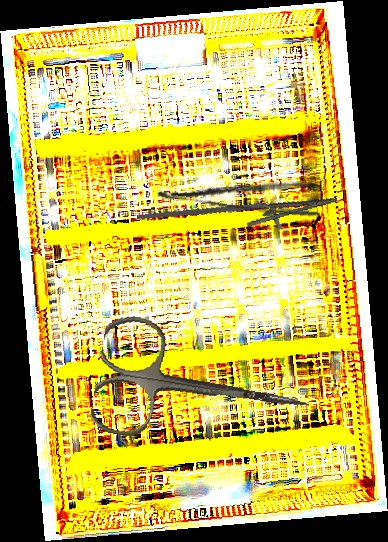Dressing Forceps: (156, 164, 324, 220)
Iris Scissors: (87, 311, 320, 467)
Needle Holder: (136, 172, 341, 260)
